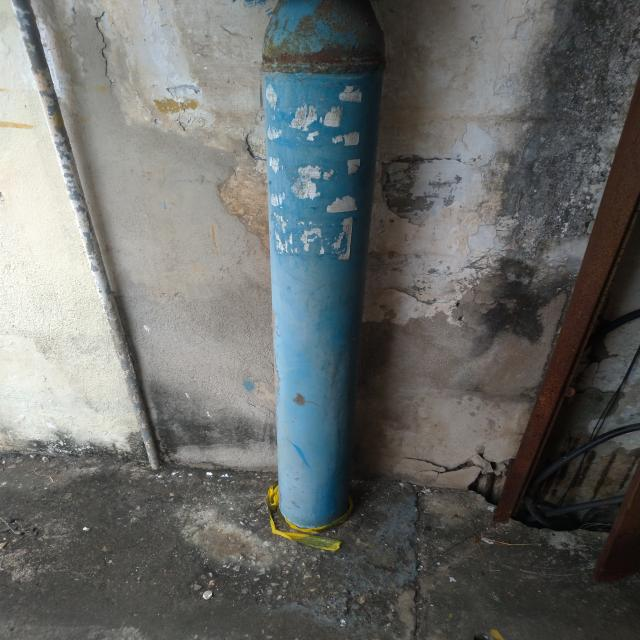gas: (13, 0, 166, 477), (259, 2, 377, 527)
